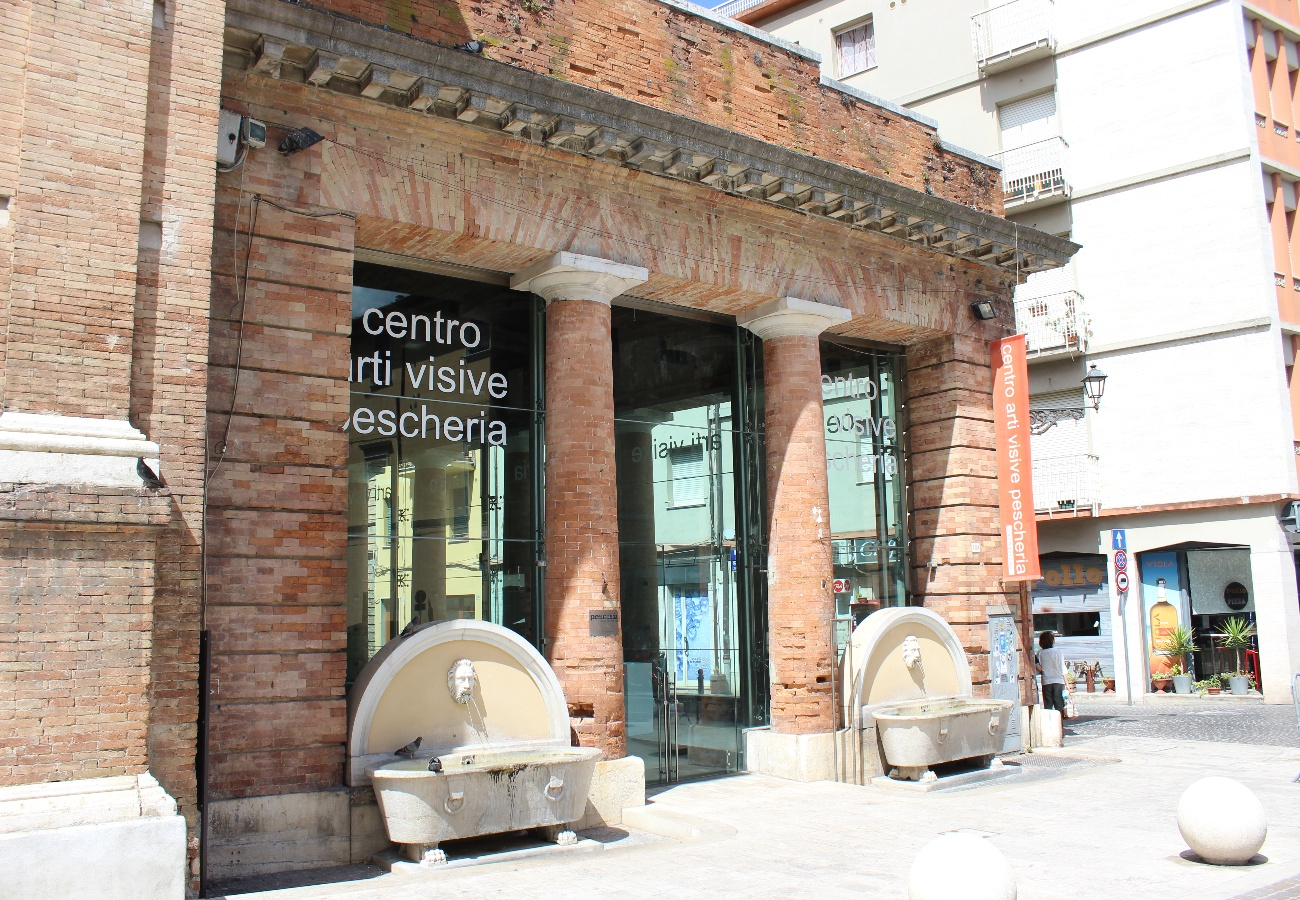Centro Arti Visive Pescheria: (213, 3, 1087, 900)
